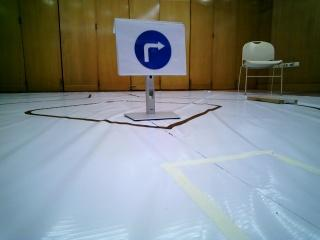right: (113, 19, 186, 75)
